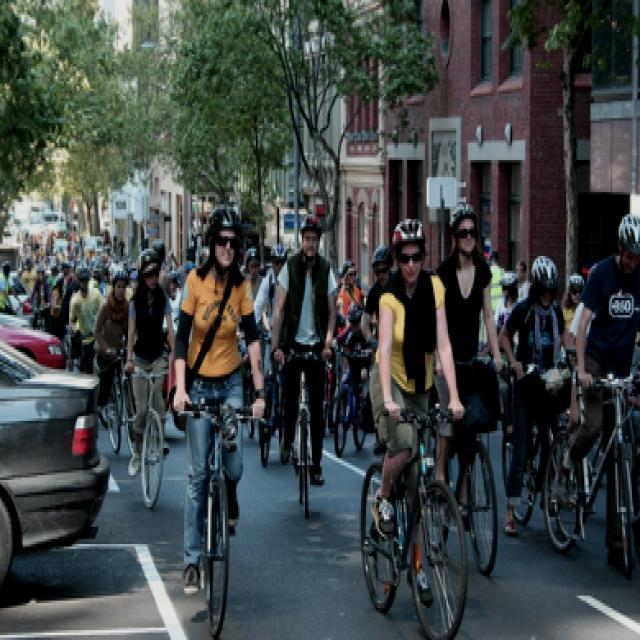Helmet: (384, 214, 432, 293), (203, 197, 244, 281), (526, 248, 562, 312), (448, 202, 486, 261), (132, 243, 168, 296), (300, 204, 327, 268)
